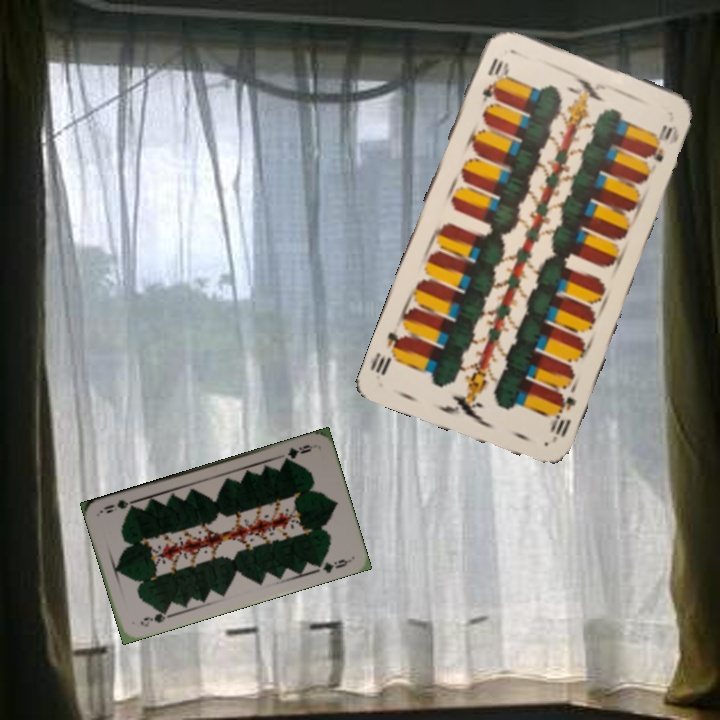E10: (545, 389, 579, 440), (478, 53, 511, 105)
G9: (136, 606, 173, 629), (280, 440, 315, 464)
